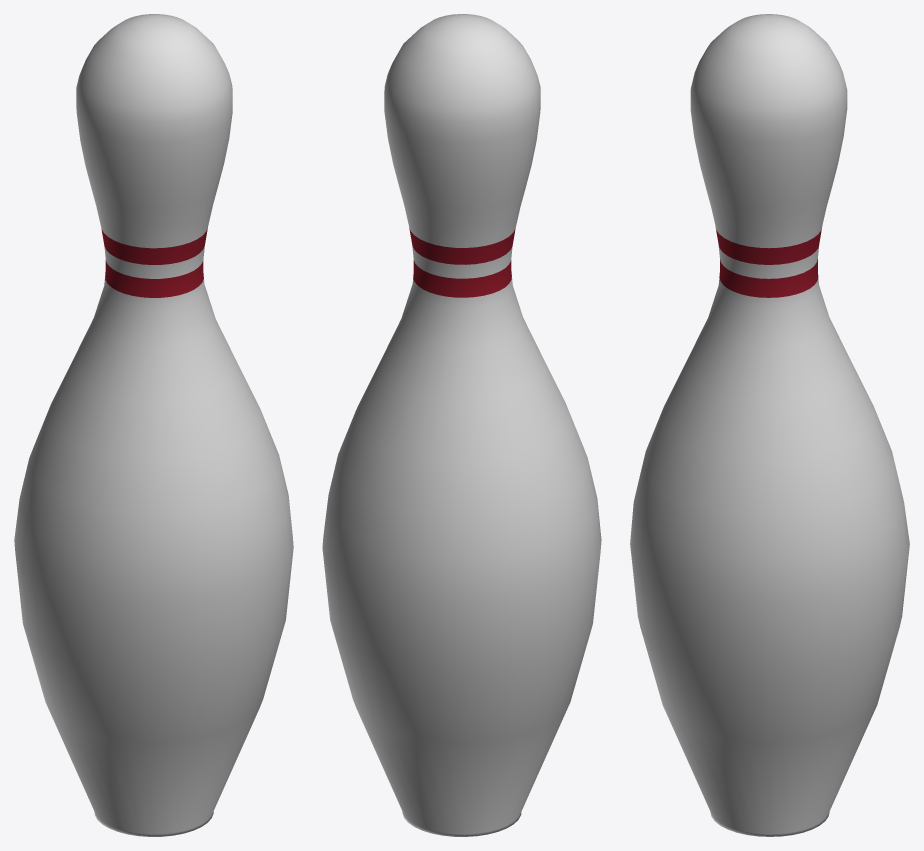
Rendered from bowling.glb.
3 renders of one model, left to right at view 1: azimuth 30°, elevation 25°; view 2: azimuth 150°, elevation 25°; view 3: azimuth 270°, elevation 25°, orthographic.
Parts seen in each view (by area): view 1: Cylinder.010; view 2: Cylinder.010; view 3: Cylinder.010.
Boxes of the visible parts, box(x1,y1,x2,y2) form: Cylinder.010: box(14, 14, 293, 836); Cylinder.010: box(322, 14, 601, 836); Cylinder.010: box(630, 14, 909, 836).
Bounding box in the file's own units: 0.6932 × 2.16 × 0.6932.
